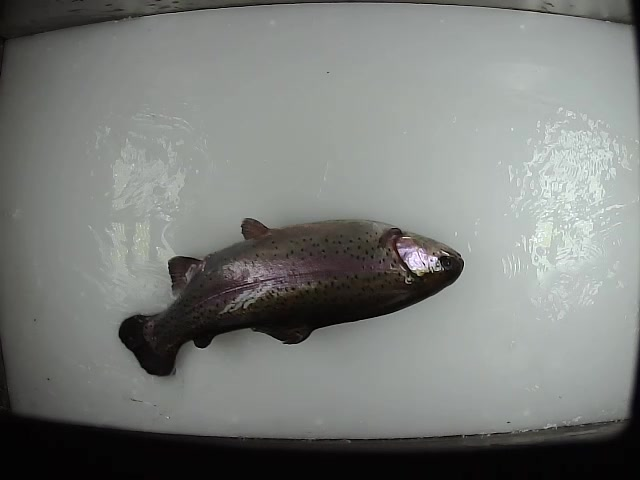fish: (115, 215, 468, 381)
